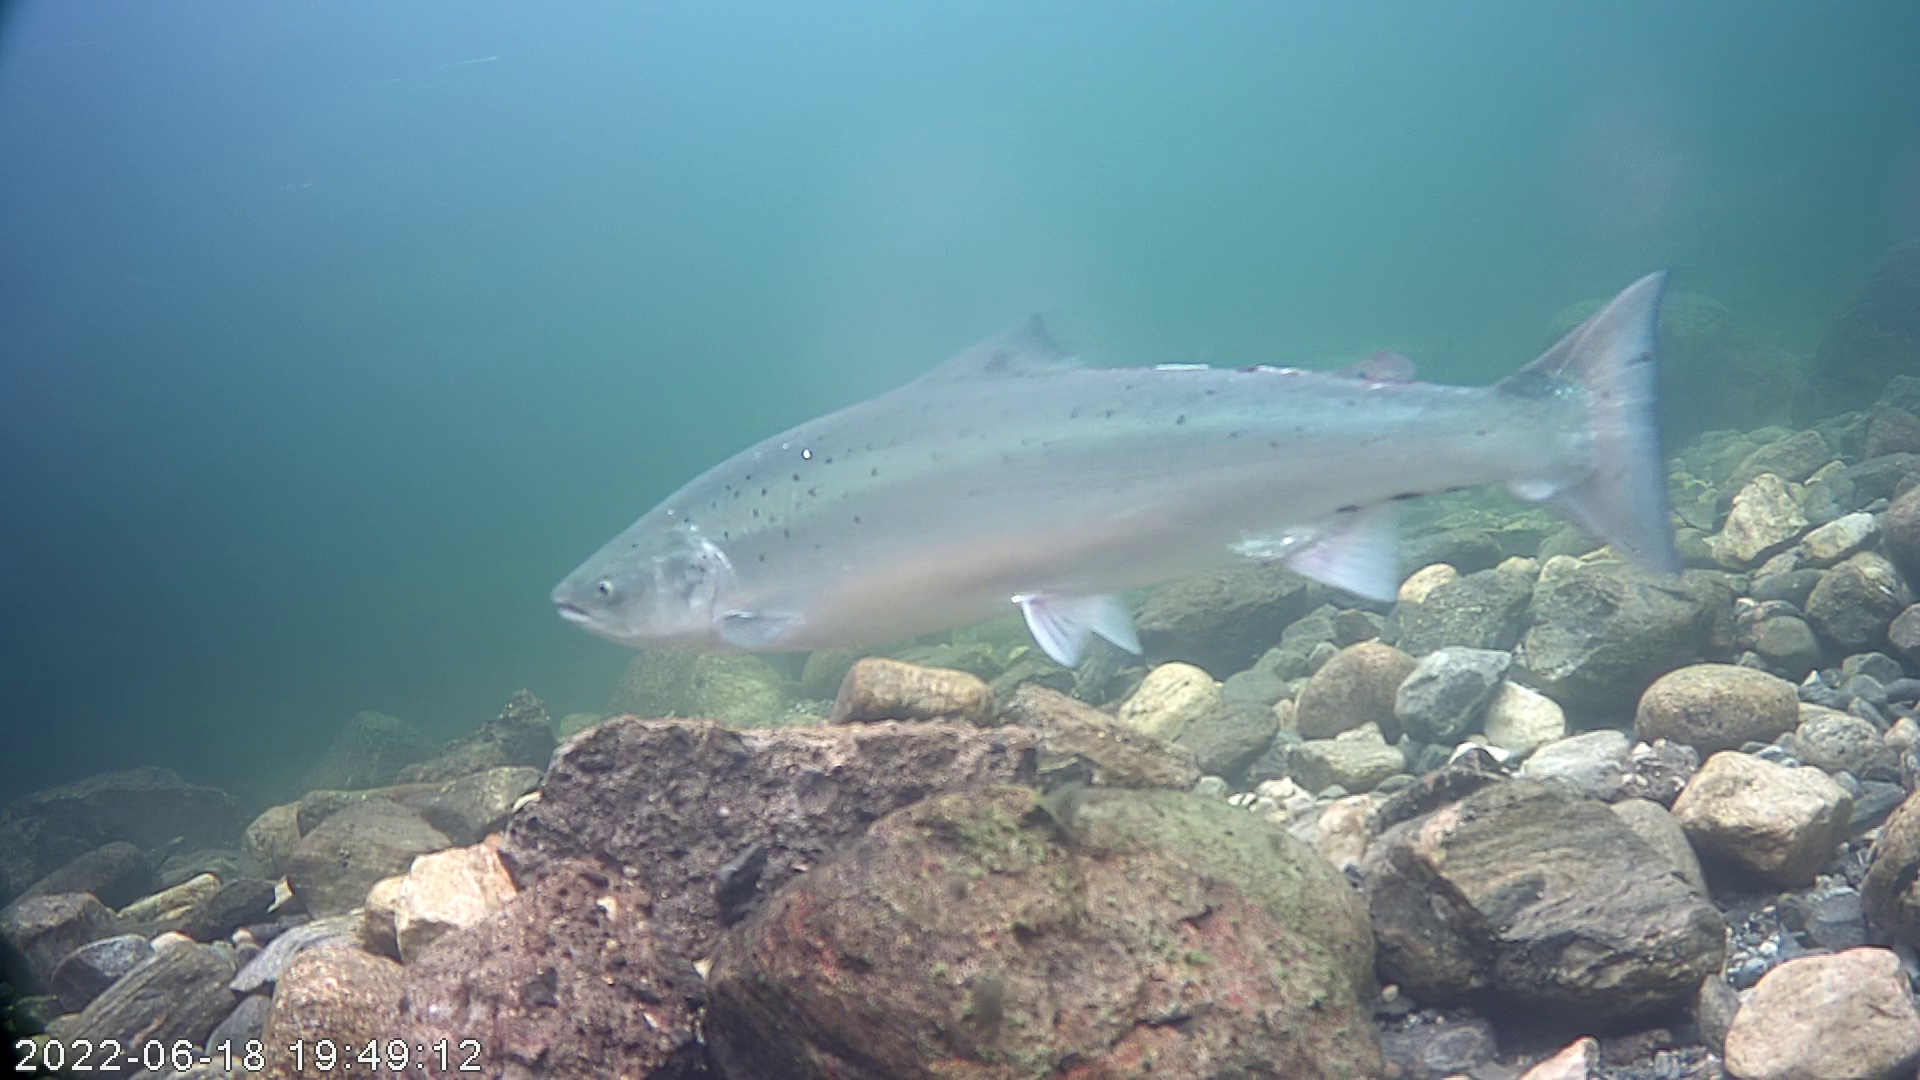salmon: (550, 266, 1688, 667)
